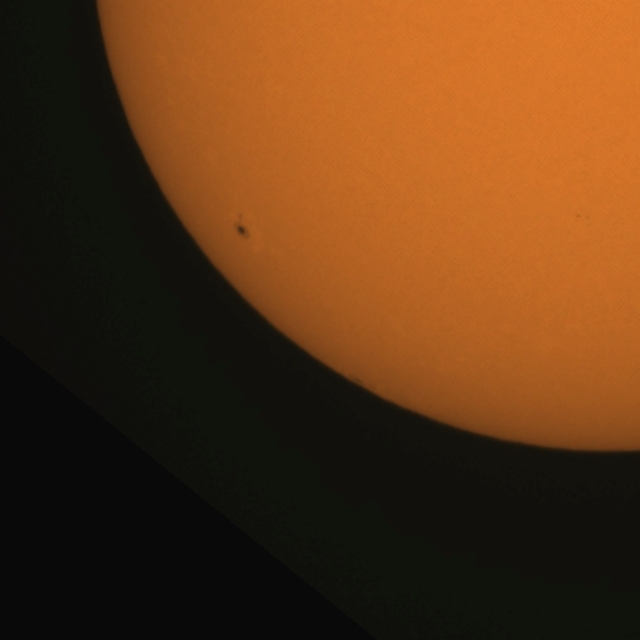sunspot: (233, 211, 252, 241), (574, 212, 591, 223)
